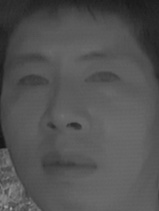eye: (84, 68, 121, 90), (15, 69, 49, 92)
mouth: (38, 147, 100, 187)
